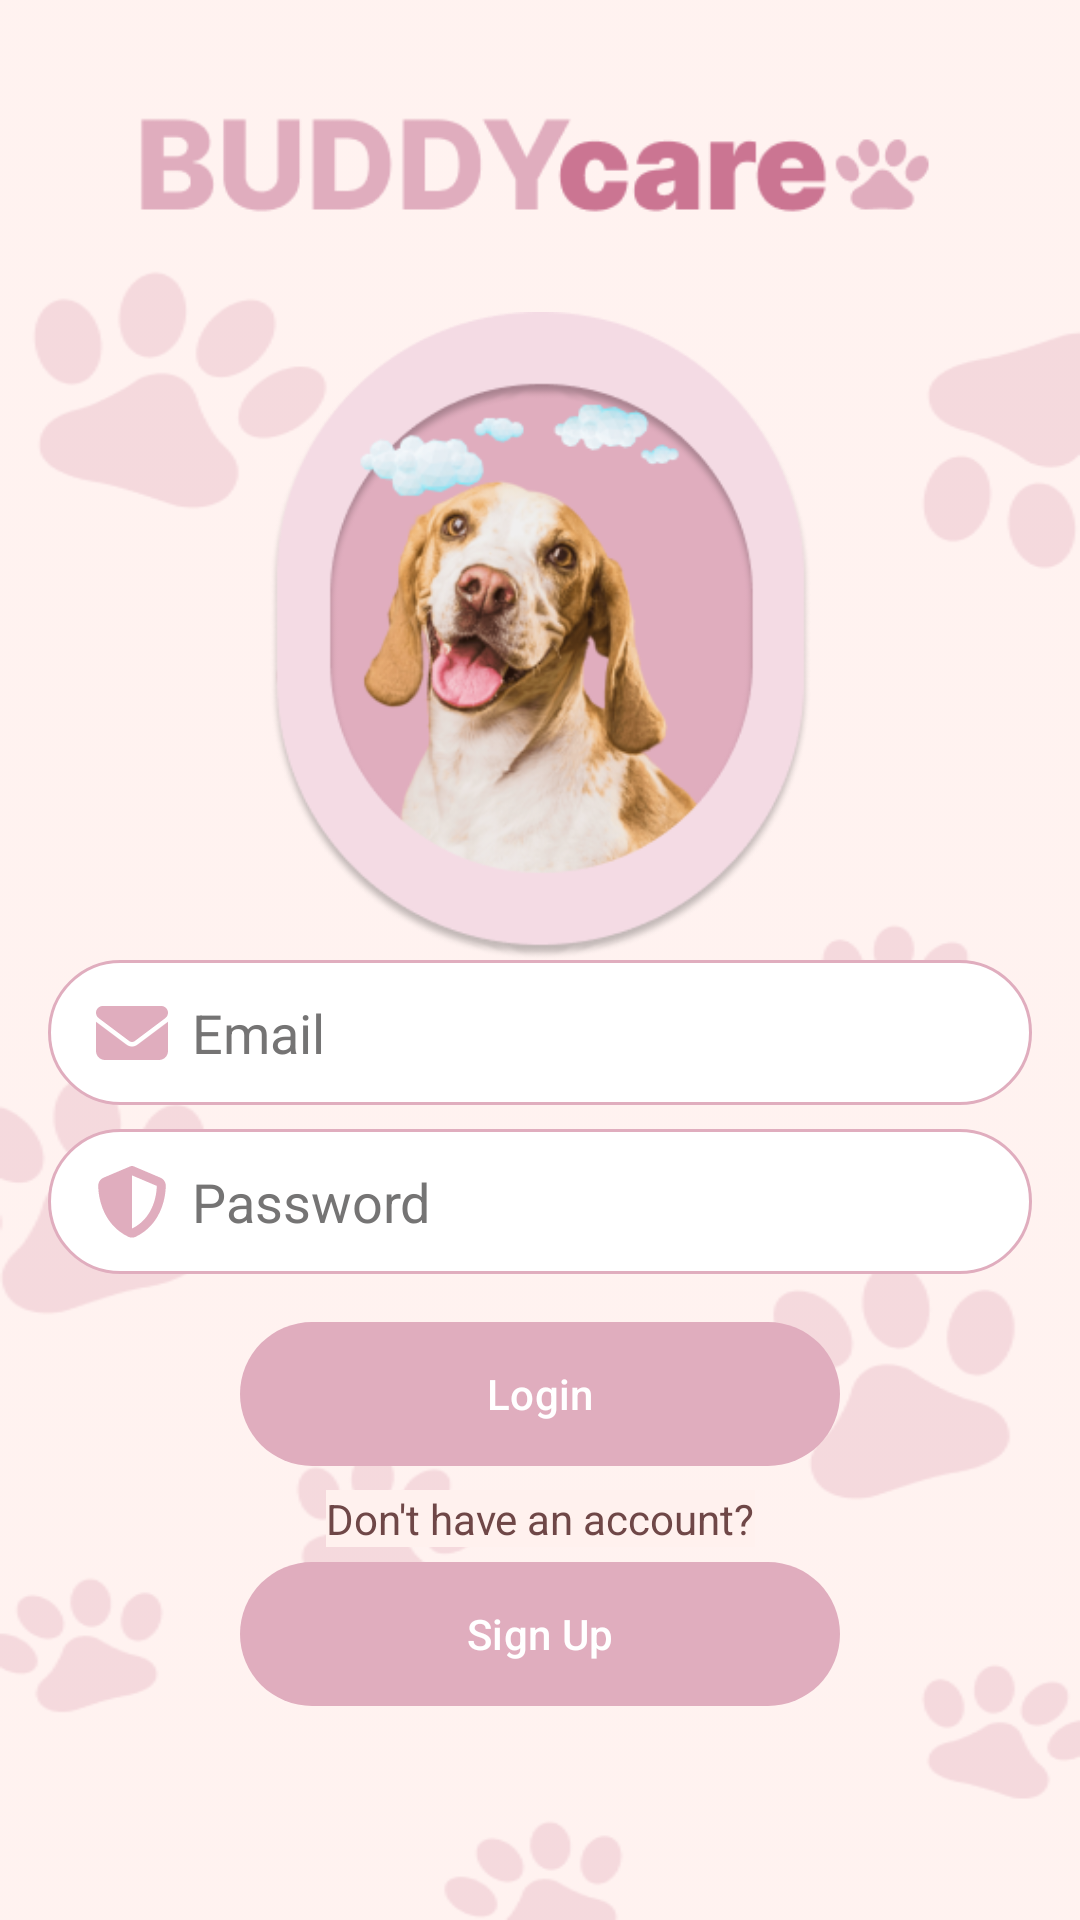

Where icons sit on this 1080*1920 app screen, as (x1, y1, x2, y2):
envelope: (96, 1006, 168, 1060)
shield: (98, 1166, 166, 1238)
